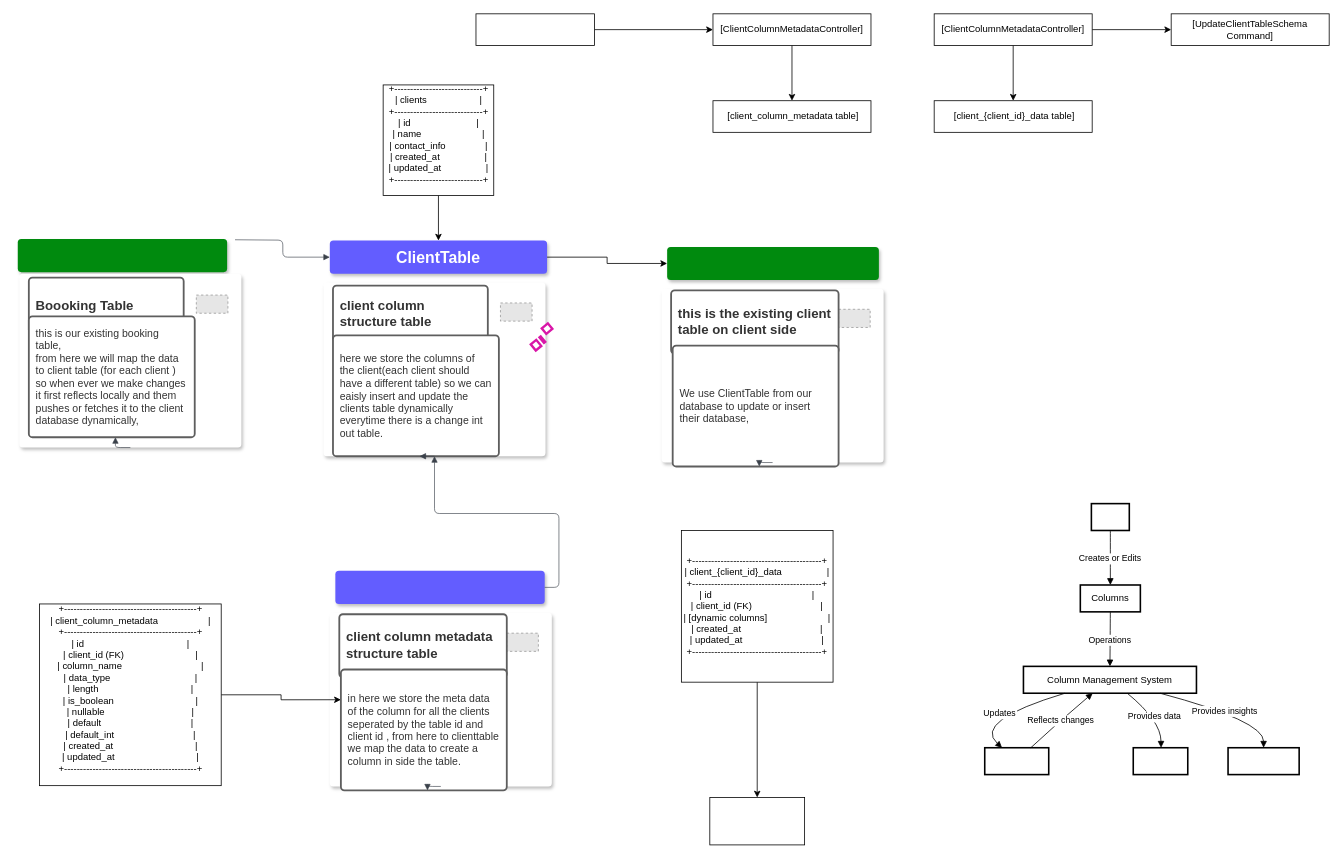
This 1343x859 diagram has some shape labels left out. Grey dashed boxes stand in for pictures. Here are the shapes that lost their labels. From the top down, the centre of each, then its label:
the point at 534,29: [Frontend Form]
the point at 122,256: BookingTable
the point at 773,264: ClientOnSiteTable
the point at 1110,516: User
the point at 440,588: ClientMetadataTable
the point at 1016,761: Database
the point at 1160,761: Reports
the point at 1263,761: Dashboard
the point at 757,821: This is used for table creation from the client input
